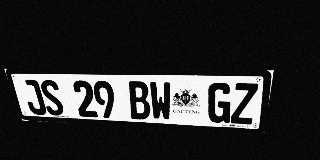2: (71, 80, 98, 117)
9: (92, 81, 117, 118)
B: (127, 81, 151, 120)
G: (207, 82, 233, 123)
J: (20, 79, 48, 115)
S: (38, 80, 65, 116)
W: (149, 81, 172, 121)
Z: (230, 83, 258, 124)
